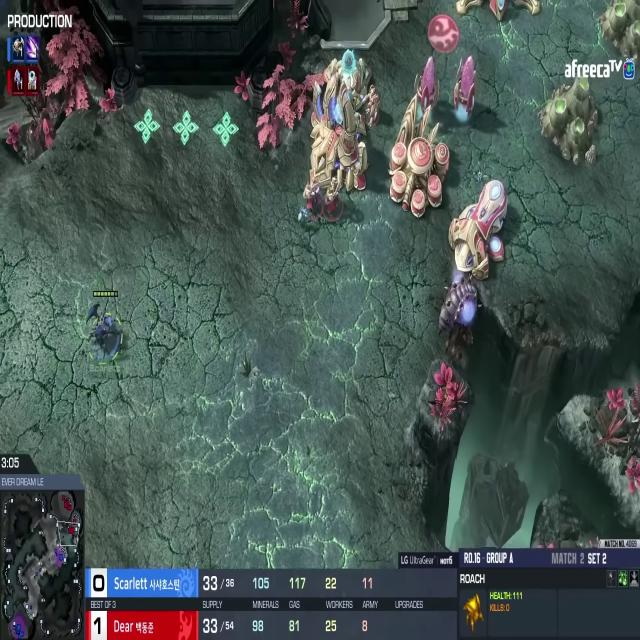adept: (300, 175, 324, 220), (322, 174, 344, 222)
overlord: (434, 266, 485, 364)
roach: (86, 300, 123, 364)
zealot: (365, 78, 382, 132)
